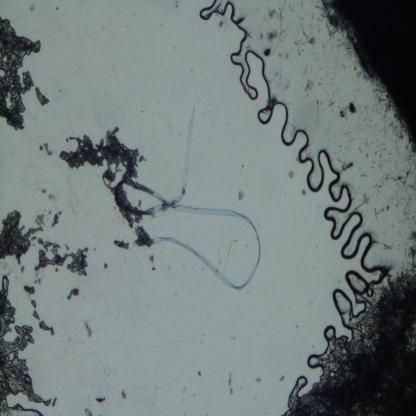Air bubble: (324, 205, 389, 271), (230, 5, 262, 99), (297, 129, 326, 195), (325, 150, 354, 206), (308, 326, 339, 368), (257, 68, 280, 124), (333, 286, 354, 330), (345, 269, 373, 301), (280, 103, 298, 147), (285, 376, 308, 407), (198, 0, 230, 21)
Background material: (287, 270, 416, 416), (319, 0, 416, 156), (58, 125, 146, 227), (0, 274, 51, 415), (0, 16, 40, 133), (34, 236, 91, 280), (0, 209, 43, 266), (382, 155, 416, 218), (401, 226, 416, 268), (134, 225, 154, 248), (34, 86, 50, 107), (36, 208, 51, 226), (340, 102, 356, 117), (38, 321, 54, 336), (50, 210, 63, 228), (261, 44, 273, 61), (305, 79, 316, 97), (39, 142, 53, 156), (114, 239, 130, 251), (226, 373, 235, 394), (22, 283, 36, 296), (267, 30, 279, 44), (67, 288, 80, 300), (236, 186, 246, 201), (84, 320, 92, 338), (269, 6, 278, 19), (308, 38, 320, 46), (288, 168, 296, 180), (27, 4, 37, 13), (83, 408, 93, 416), (138, 155, 148, 163), (95, 394, 105, 402), (121, 387, 127, 400), (33, 310, 40, 321), (48, 192, 57, 200), (147, 254, 154, 264), (173, 0, 180, 10), (30, 300, 37, 308), (278, 374, 286, 381), (20, 265, 25, 275), (218, 21, 225, 28), (34, 278, 42, 284), (52, 396, 56, 407), (256, 376, 262, 383), (103, 262, 108, 270), (300, 190, 306, 195), (40, 188, 46, 193), (197, 371, 201, 377), (152, 266, 156, 272), (55, 5, 59, 11)
Cotton: (120, 105, 262, 288)
